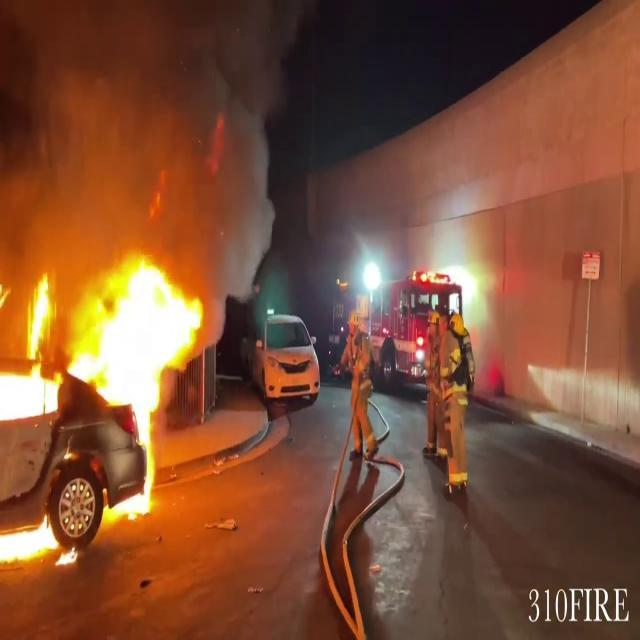Fire: (0, 243, 207, 512), (0, 508, 76, 574)
Smoke: (0, 0, 300, 274)
